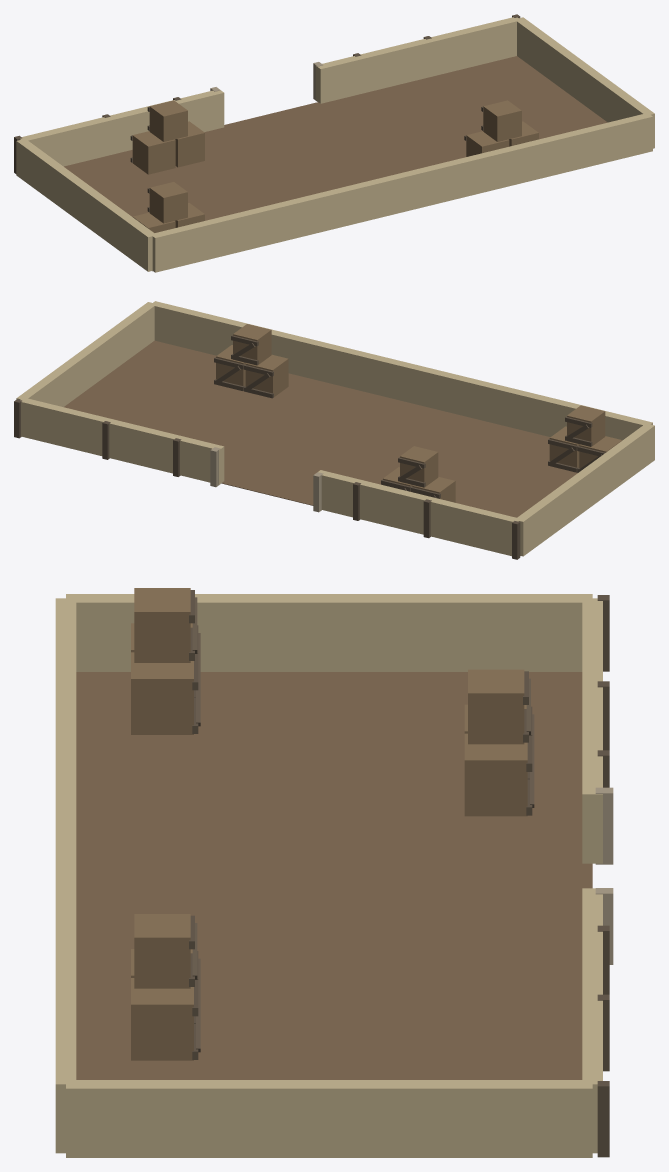
Rendered from TownEx_Warehouse_Structure.fbx.
The picture shows the model from 3 angles, top to bottom: view 1: azimuth 30°, elevation 25°; view 2: azimuth 150°, elevation 25°; view 3: azimuth 270°, elevation 25°; orthographic projection. The views are drawn at different scales.
Visible parts, largest first — view 1: TownEx_Warehouse_Structure; view 2: TownEx_Warehouse_Structure; view 3: TownEx_Warehouse_Structure.
Part boxes in pixels (bbox=[...]): TownEx_Warehouse_Structure: bbox=[14, 14, 654, 272]; TownEx_Warehouse_Structure: bbox=[14, 301, 654, 559]; TownEx_Warehouse_Structure: bbox=[55, 588, 613, 1157].
Size of the model in its own units: 15.78 by 1.61 by 7.52.
